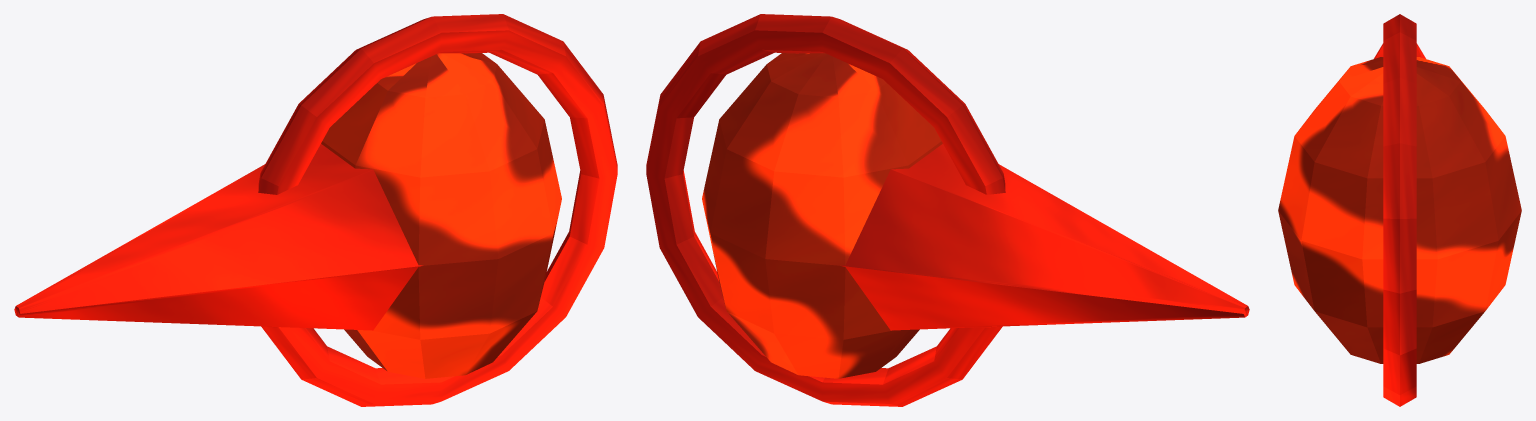
The model's file is SM_FC_EmberProjectile.fbx.
3 renders of one model, left to right at view 1: azimuth 30°, elevation 25°; view 2: azimuth 150°, elevation 25°; view 3: azimuth 270°, elevation 25°, orthographic. The views are drawn at different scales.
Visible parts, largest first — view 1: SM_FC_EmberProjectile; view 2: SM_FC_EmberProjectile; view 3: SM_FC_EmberProjectile.
Part boxes in pixels (x1,y1,x2,y2): SM_FC_EmberProjectile: [14, 14, 617, 406]; SM_FC_EmberProjectile: [646, 14, 1249, 406]; SM_FC_EmberProjectile: [1278, 14, 1521, 406].
Size of what is drawn, in the model's own units: 1.15 by 0.71 by 0.44.
